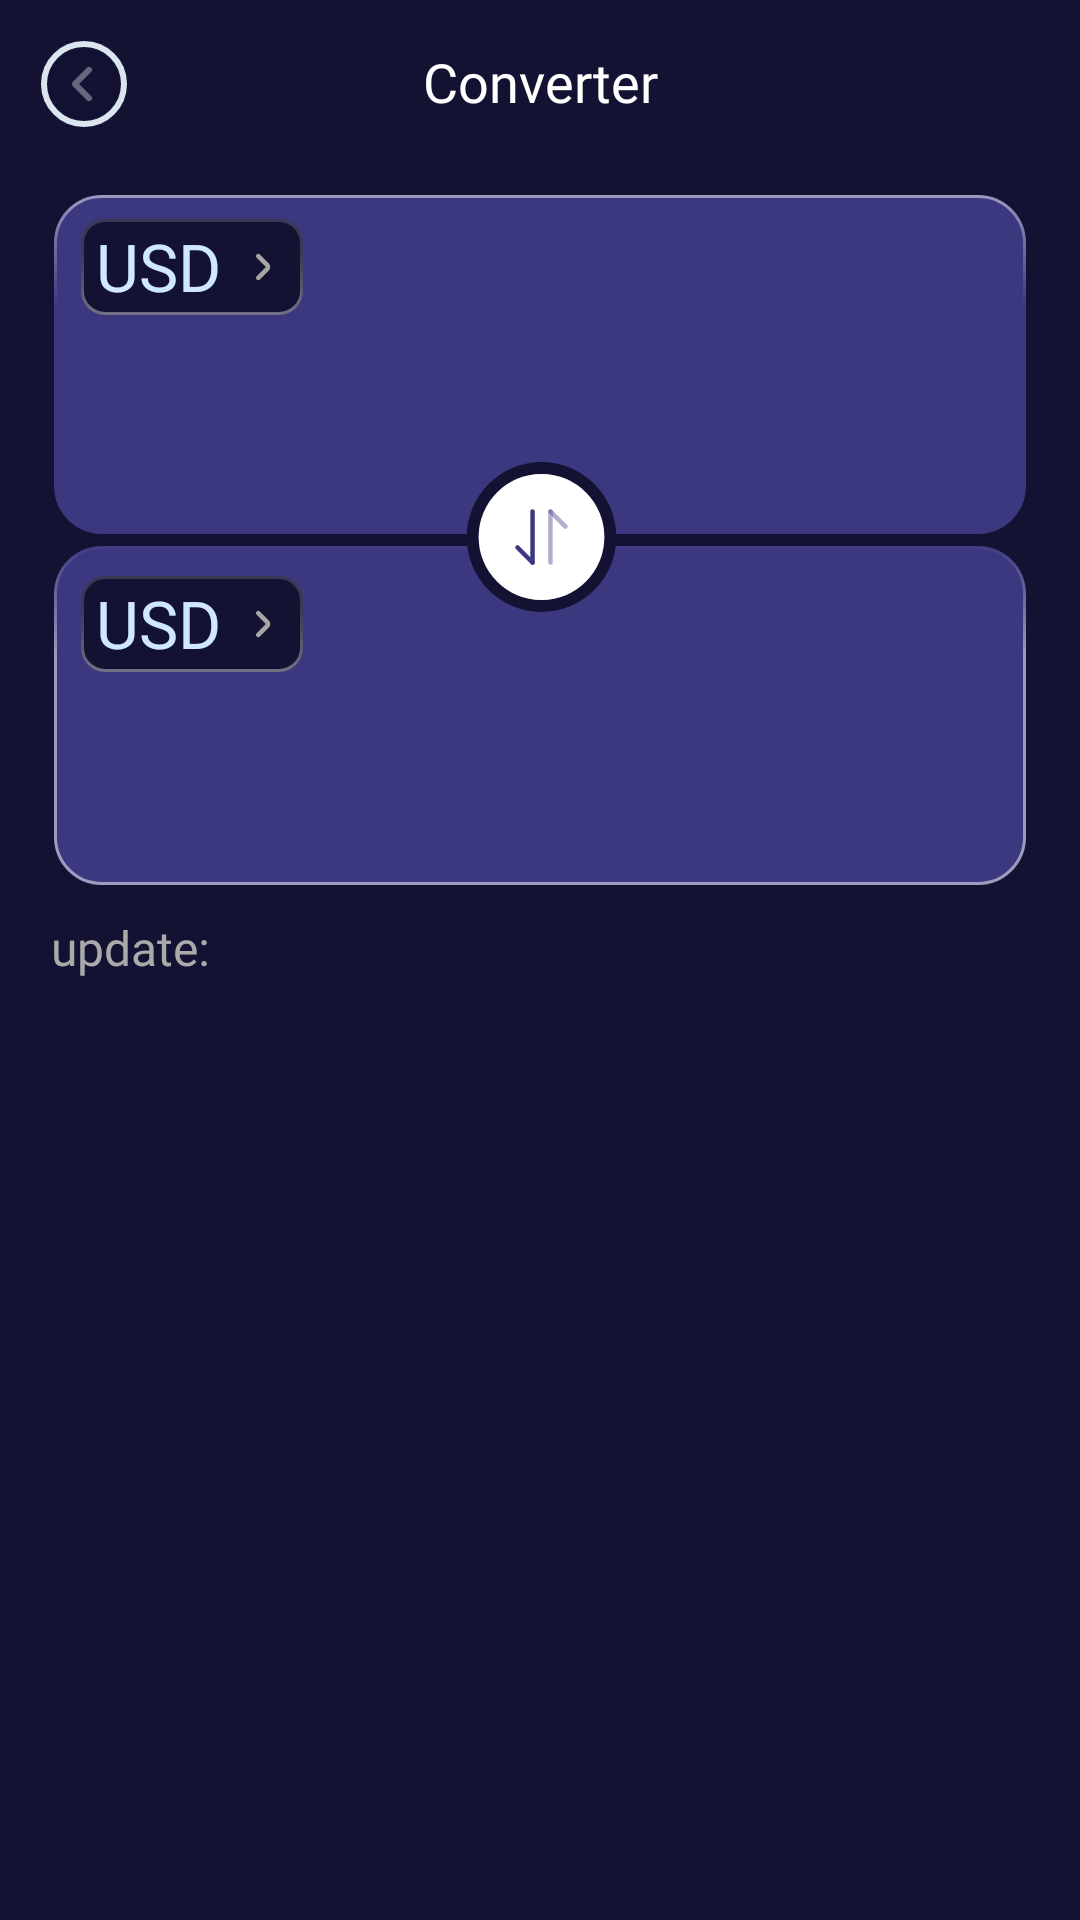

Icons on this 1080 x 1920 Android screen, each with the point to tap as (x=x, y=y):
back: (x=84, y=84)
